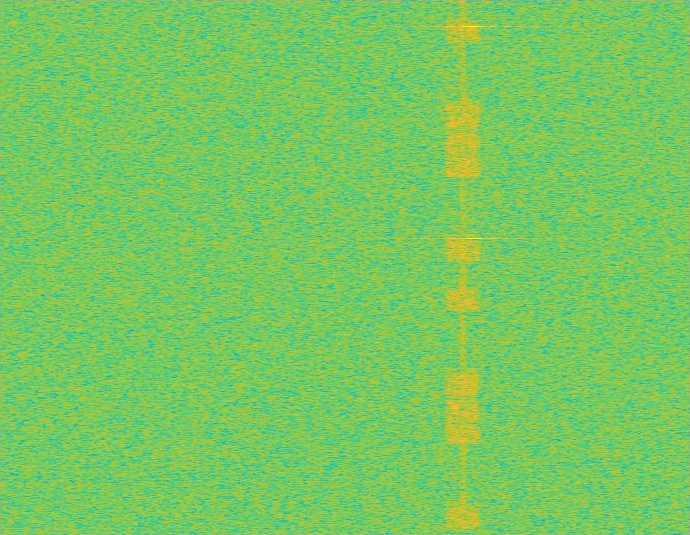DSSS: (461, 0, 465, 534)
LTE: (446, 0, 480, 534)
Radar: (466, 0, 480, 534)
